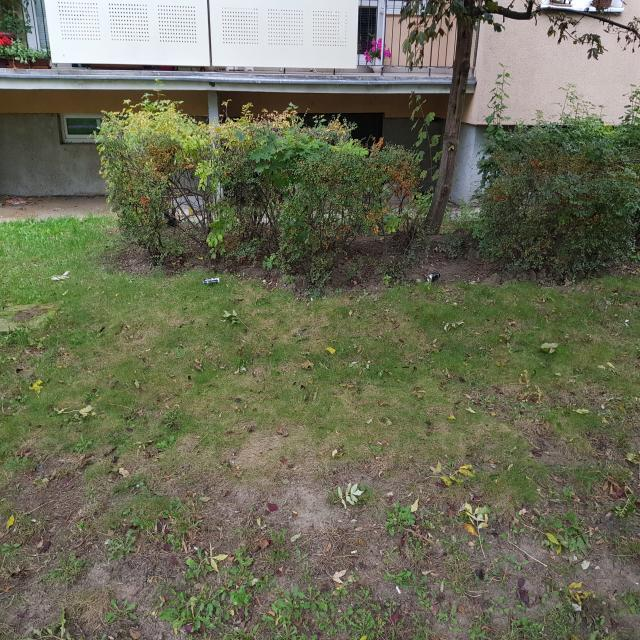rubbish: (426, 270, 440, 284), (202, 276, 220, 286)
